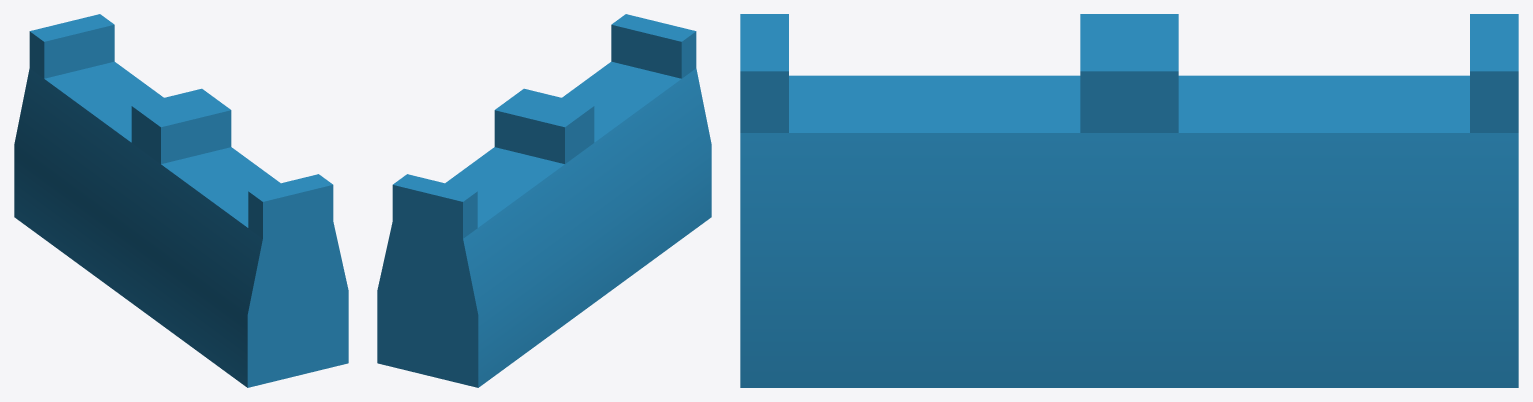
The model's file is Tower3_blue.fbx.
The picture shows the model from 3 angles, left to right: view 1: azimuth 30°, elevation 25°; view 2: azimuth 150°, elevation 25°; view 3: azimuth 270°, elevation 25°; orthographic projection. The views are drawn at different scales.
Visible parts, largest first — view 1: Cube.028; view 2: Cube.028; view 3: Cube.028.
Boxes of the visible parts, left/top/right/bottom form: Cube.028: left=14, top=14, right=348, bottom=387; Cube.028: left=377, top=14, right=711, bottom=387; Cube.028: left=740, top=14, right=1518, bottom=387.
Bounding box in the file's own units: 1.3 × 5.19 × 2.24.
